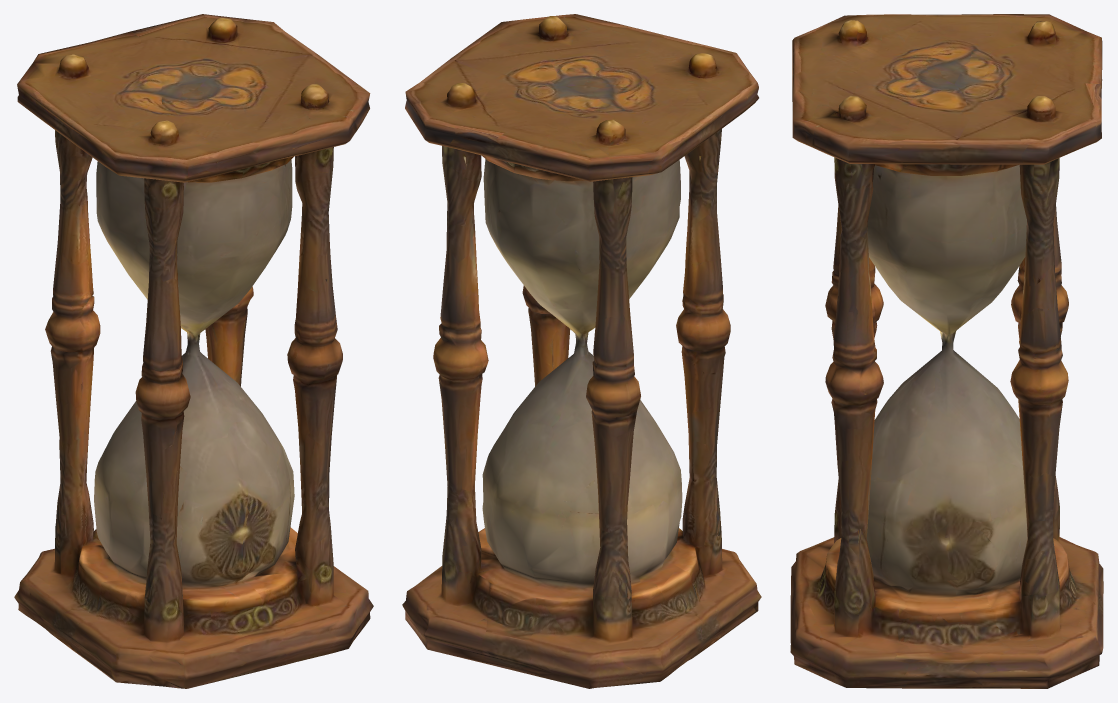
File: hourglass.glb
The picture shows the model from 3 angles, left to right: view 1: azimuth 30°, elevation 25°; view 2: azimuth 150°, elevation 25°; view 3: azimuth 270°, elevation 25°; orthographic projection. The views are drawn at different scales.
Bounding box in the file's own units: 1 × 2 × 1.01.
1 material, 1 textured.
